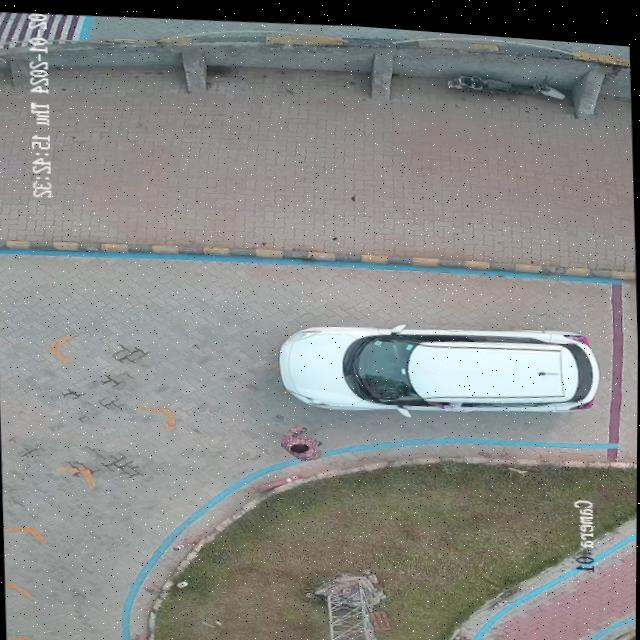car: (279, 317, 599, 405)
